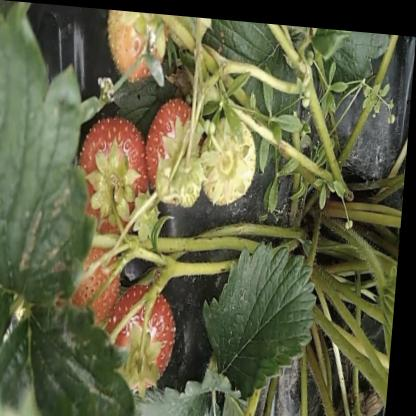ripe: (71, 109, 153, 239), (111, 284, 185, 391), (145, 89, 207, 204), (64, 233, 126, 321)
unripe: (98, 7, 170, 86), (200, 111, 261, 204), (208, 120, 242, 177)
